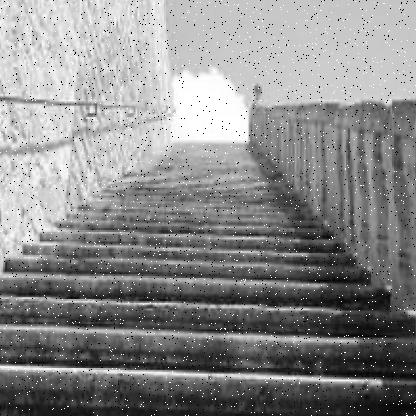stair_up: (0, 216, 416, 404)
